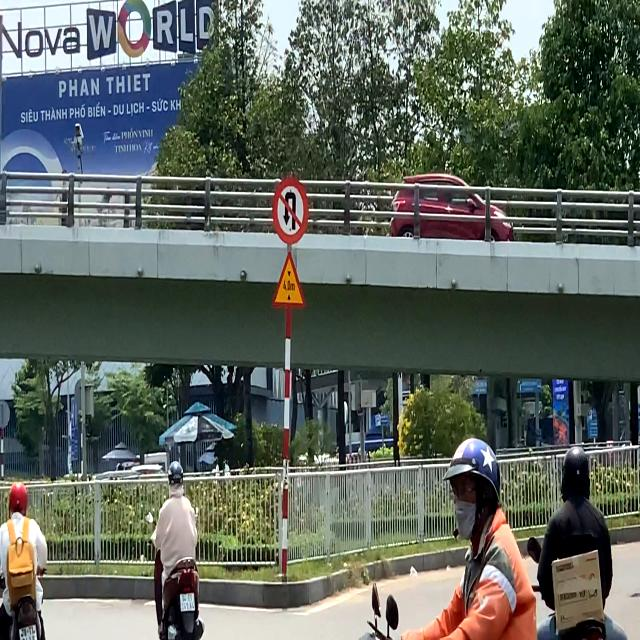P.124a: (272, 178, 310, 246)
S.509a: (269, 248, 307, 312)
